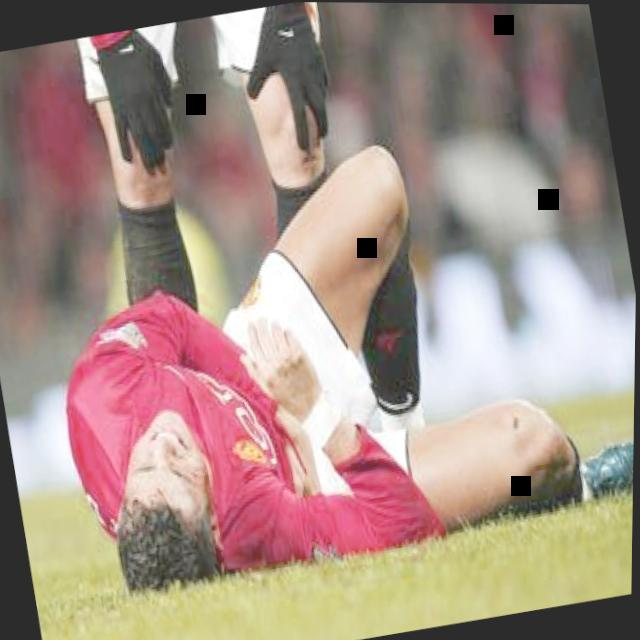Fall-Detected: (9, 76, 639, 624)
